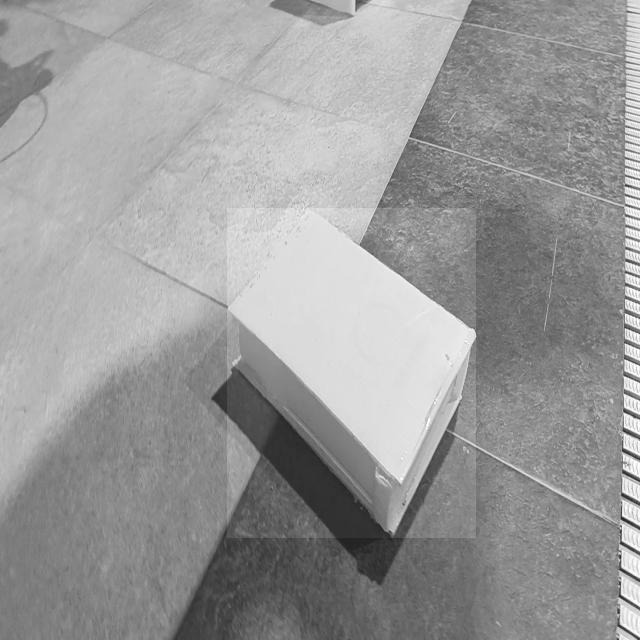Cuboid: (227, 208, 476, 538)
